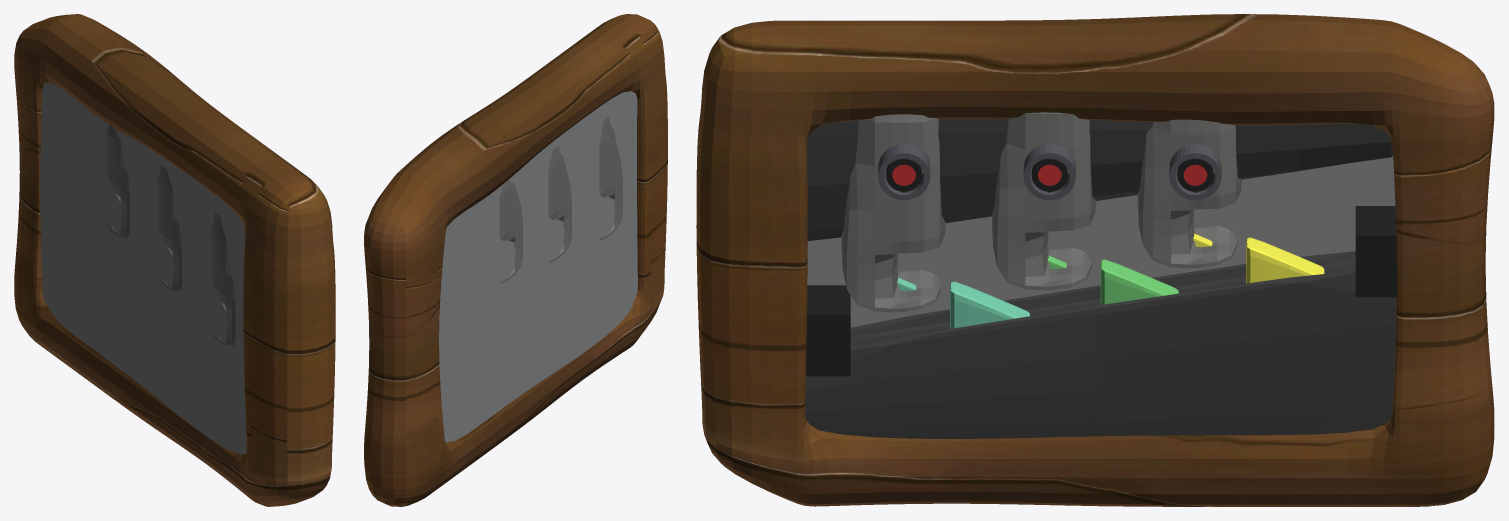
File: mechanism.fbx
3 renders of one model, left to right at view 1: azimuth 30°, elevation 25°; view 2: azimuth 150°, elevation 25°; view 3: azimuth 270°, elevation 25°, orthographic. The views are drawn at different scales.
Parts seen in each view (by area): view 1: frame, background, lock3, lock2, lock1; view 2: frame, background, lock3, lock2, lock1; view 3: frame, ramps, background, lock3, lock2, lock1, tunnels, indicatorsFrame, blueRamp, yellowRamp, greenRamp, 1indicator (+2 smaller).
Part boxes in pixels (left/top/right/bottom): frame: left=14, top=14, right=335, bottom=506; background: left=40, top=82, right=246, bottom=454; lock3: left=211, top=213, right=235, bottom=346; lock2: left=157, top=165, right=181, bottom=291; lock1: left=105, top=124, right=129, bottom=237; frame: left=364, top=14, right=667, bottom=506; background: left=439, top=91, right=637, bottom=442; lock3: left=599, top=117, right=622, bottom=240; lock2: left=548, top=147, right=571, bottom=262; lock1: left=499, top=180, right=522, bottom=283; frame: left=696, top=14, right=1494, bottom=506; ramps: left=805, top=118, right=1396, bottom=438; background: left=807, top=156, right=1395, bottom=327; lock3: left=841, top=114, right=945, bottom=312; lock2: left=992, top=112, right=1096, bottom=290; lock1: left=1137, top=119, right=1241, bottom=268; tunnels: left=805, top=206, right=1396, bottom=376; indicatorsFrame: left=878, top=144, right=1221, bottom=200; blueRamp: left=950, top=281, right=1029, bottom=328; yellowRamp: left=1246, top=237, right=1324, bottom=283; greenRamp: left=1100, top=259, right=1178, bottom=304; 1indicator: left=1177, top=158, right=1213, bottom=191.
Size of the model in its own units: 253 by 1095 by 1644.
